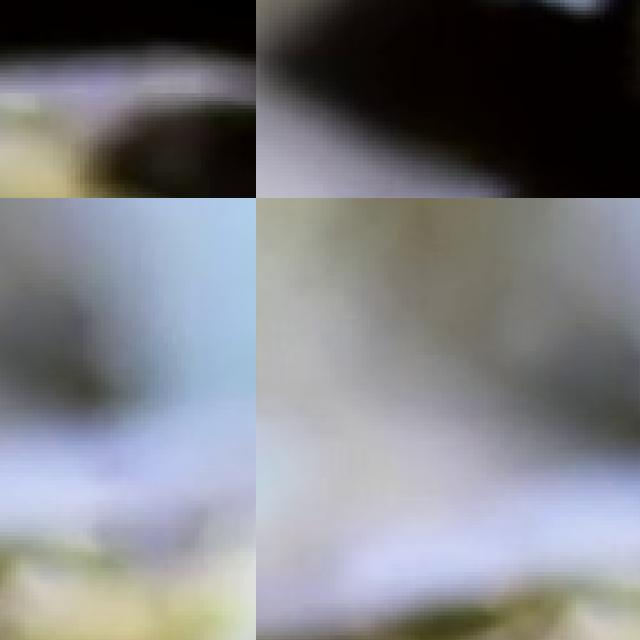fish: (256, 0, 640, 198), (0, 0, 256, 198)
